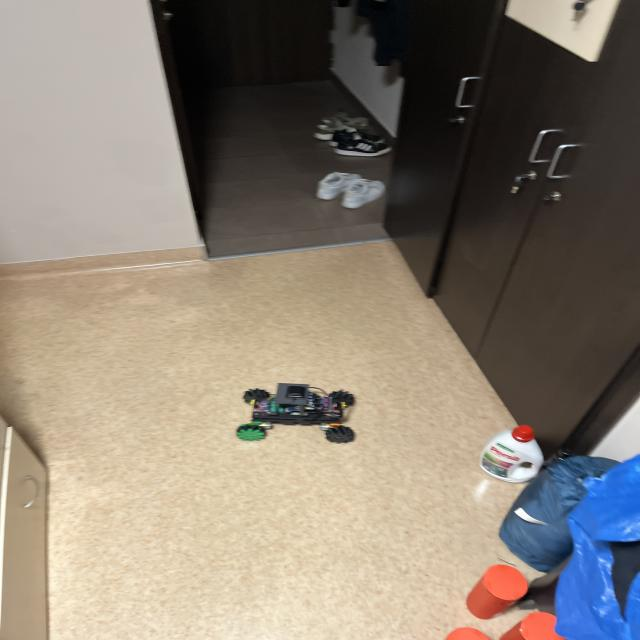robot: (236, 383, 355, 444)
